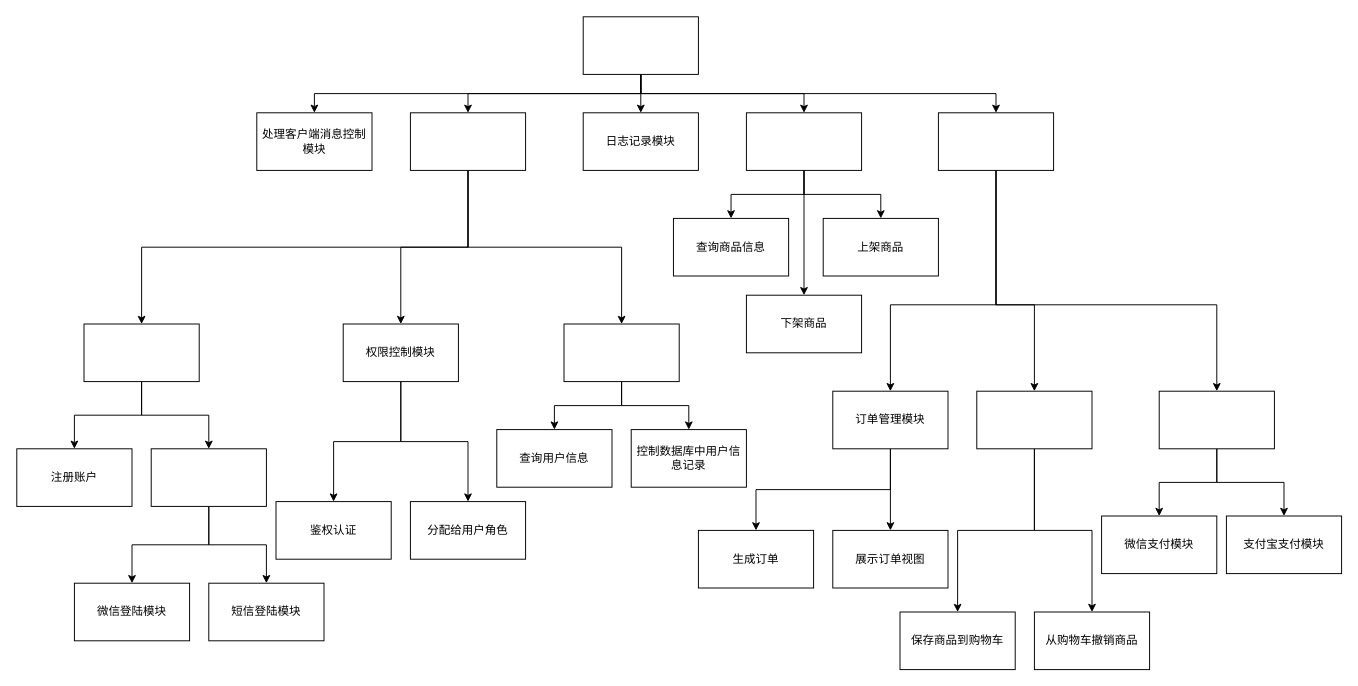
Image size: 1358x686. Some labels were removed from this diagram. Here are the shapes that lost their labels. From the top down, the centre of each, then its label:
At point (640, 45): "服务端中心控制模块".
At point (467, 141): "用户管理模块".
At point (803, 141): "商品管理模块".
At point (995, 141): "交易模块".
At point (141, 352): "账户开户模块".
At point (621, 352): "数据控制模块".
At point (1034, 419): "购物车模块".
At point (1216, 419): "支付模块".
At point (208, 477): "第三方登录模块".
